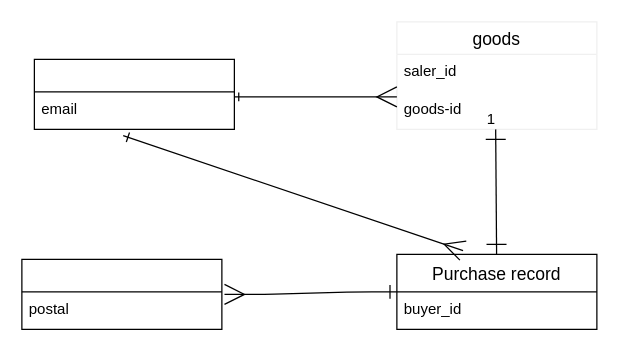
Some shapes in this 619 by 355 pixel diagram are drawn without their labels. The box of each missing label's shape, as (x1, y1, x2, y2) in pixels:
Street address: (21, 258, 222, 329)
users: (33, 58, 234, 129)
